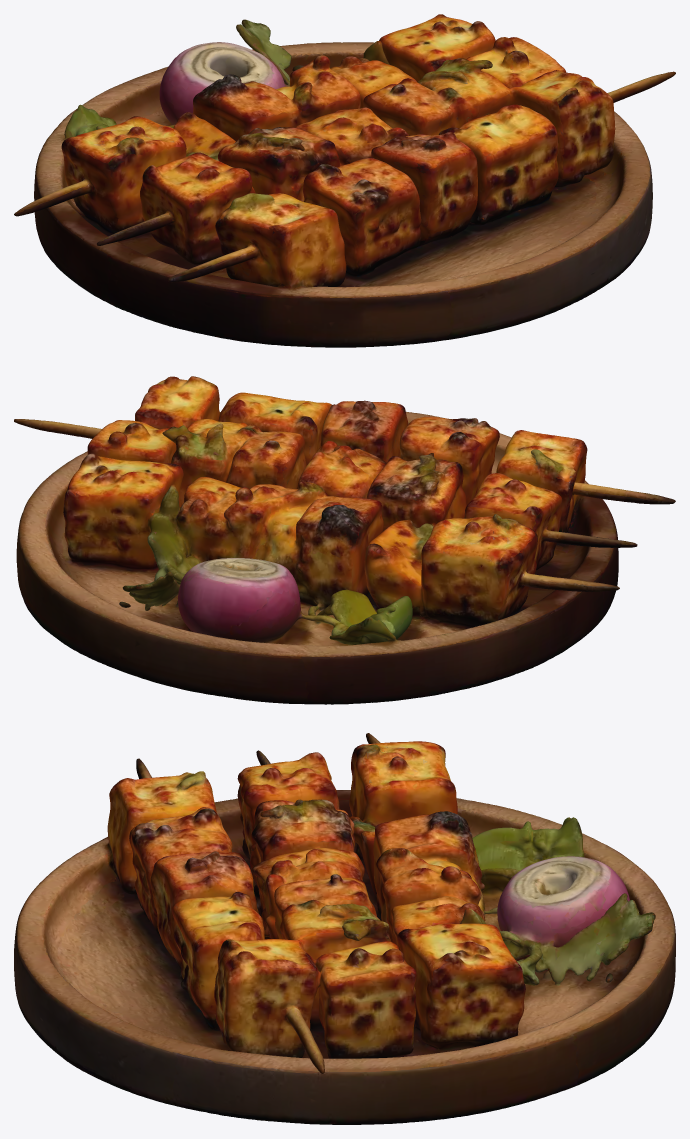
Rendered from Paneer tikka-compressed.glb.
3 views of the same model, one above another, from view 1: azimuth 30°, elevation 25°; view 2: azimuth 150°, elevation 25°; view 3: azimuth 270°, elevation 25° (orthographic). The views are drawn at different scales.
Parts seen in each view (by area): view 1: world; view 2: world; view 3: world.
Part boxes in pixels (x1=…): world: x1=14, y1=14, x2=675, y2=347; world: x1=14, y1=376, x2=675, y2=704; world: x1=14, y1=733, x2=675, y2=1124.
Bounding box in the file's own units: 1 × 0.1886 × 0.8232.
1 material, 1 textured.
